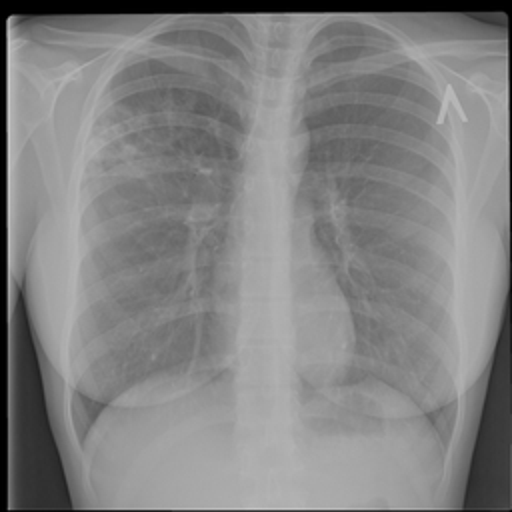TB: (88, 106, 212, 243)
